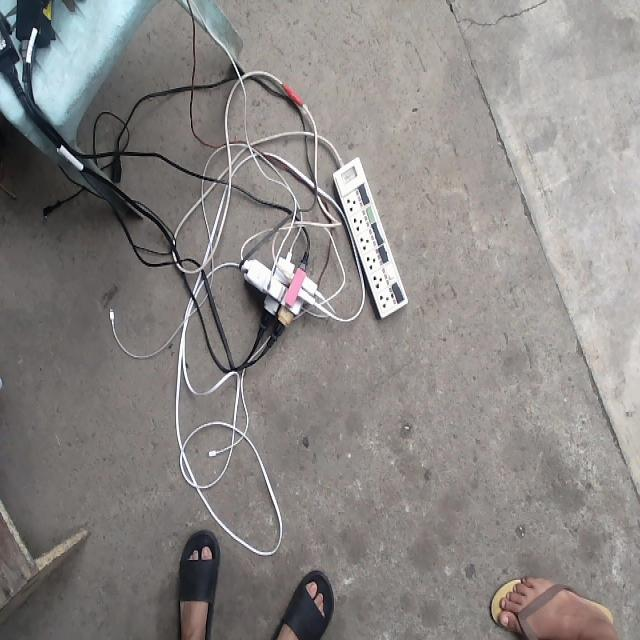-: (238, 243, 321, 337)
